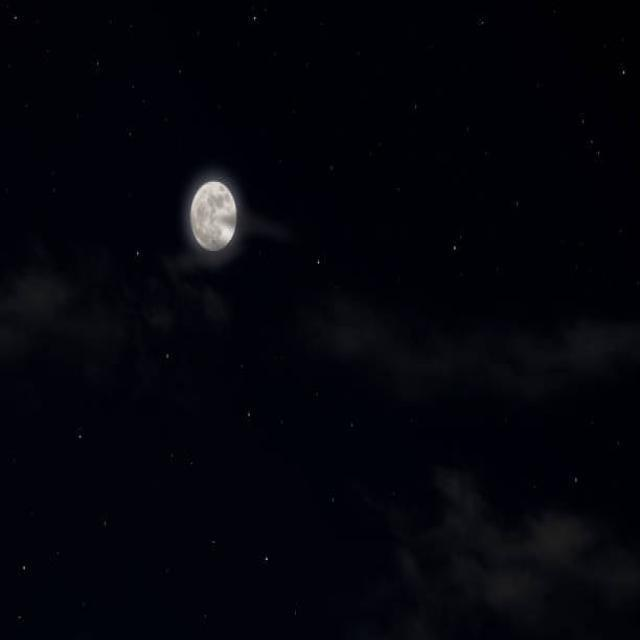moon: (190, 179, 238, 254)
